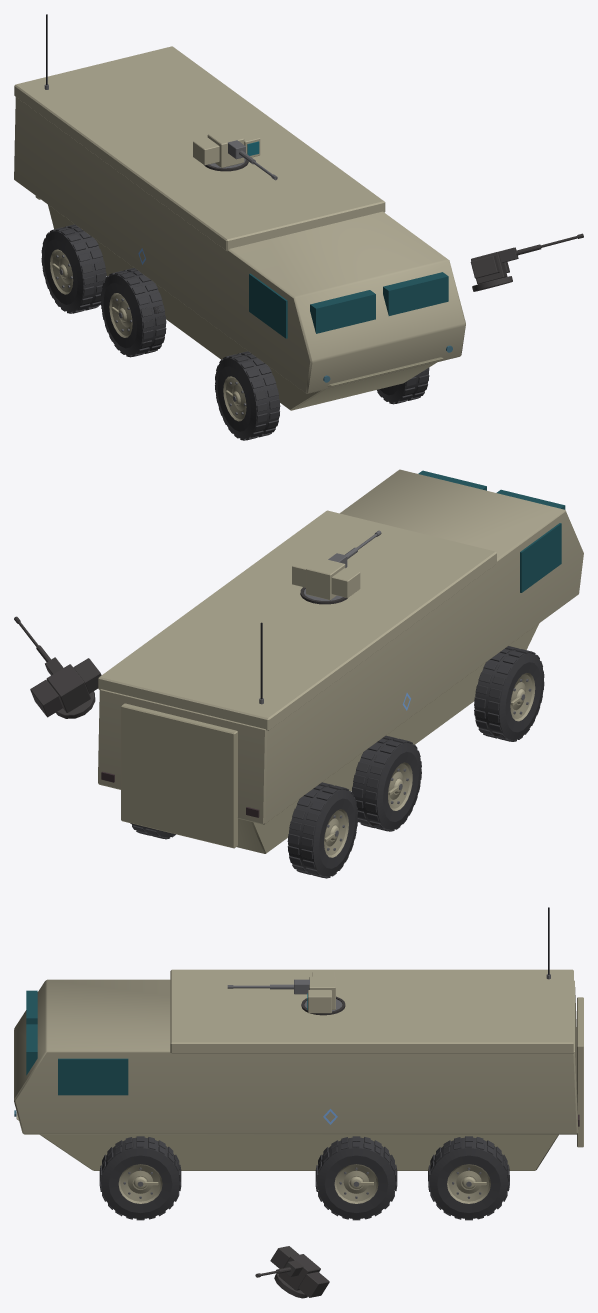
File: apc__btr_80_typhoon_mrap.glb
3 renders of one model, top to bottom at view 1: azimuth 30°, elevation 25°; view 2: azimuth 150°, elevation 25°; view 3: azimuth 270°, elevation 25°, orthographic. The views are drawn at different scales.
Visible parts, largest first — view 1: Hull_Mesh, Wheel_L2_Mesh, Wheel_L1_Mesh, Wheel_L0_Mesh, Wreck, Turret_Mesh, Wheel_R2_Mesh; view 2: Hull_Mesh, Wheel_L0_Mesh, Wheel_L2_Mesh, Wheel_L1_Mesh, Wreck, Turret_Mesh; view 3: Hull_Mesh, Wheel_R2_Mesh, Wheel_R0_Mesh, Wheel_R1_Mesh, Wreck, Turret_Mesh, Gun_Mesh.
Boxes of the visible parts, bbox=[...] form: Hull_Mesh: bbox=[14, 14, 465, 410]; Wheel_L2_Mesh: bbox=[215, 351, 280, 440]; Wheel_L1_Mesh: bbox=[101, 268, 166, 357]; Wheel_L0_Mesh: bbox=[41, 224, 106, 313]; Wreck: bbox=[55, 159, 583, 439]; Turret_Mesh: bbox=[193, 129, 260, 168]; Wheel_R2_Mesh: bbox=[377, 367, 429, 404]; Hull_Mesh: bbox=[98, 469, 583, 853]; Wheel_L0_Mesh: bbox=[287, 782, 357, 878]; Wheel_L2_Mesh: bbox=[474, 646, 544, 741]; Wheel_L1_Mesh: bbox=[352, 735, 421, 831]; Wreck: bbox=[14, 587, 529, 876]; Turret_Mesh: bbox=[292, 556, 360, 600]; Hull_Mesh: bbox=[14, 907, 583, 1170]; Wheel_R2_Mesh: bbox=[99, 1136, 181, 1220]; Wheel_R0_Mesh: bbox=[428, 1136, 509, 1220]; Wheel_R1_Mesh: bbox=[315, 1136, 397, 1220]; Wreck: bbox=[130, 996, 483, 1298]; Turret_Mesh: bbox=[304, 972, 342, 1013]; Gun_Mesh: bbox=[227, 979, 309, 994].
Size of what is drawn, in the model's own units: 6.4 by 3.85 by 8.1.
